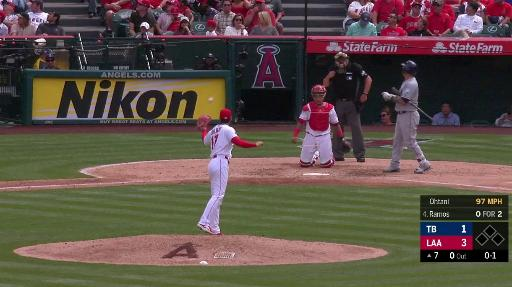pitcher: (197, 108, 264, 236)
